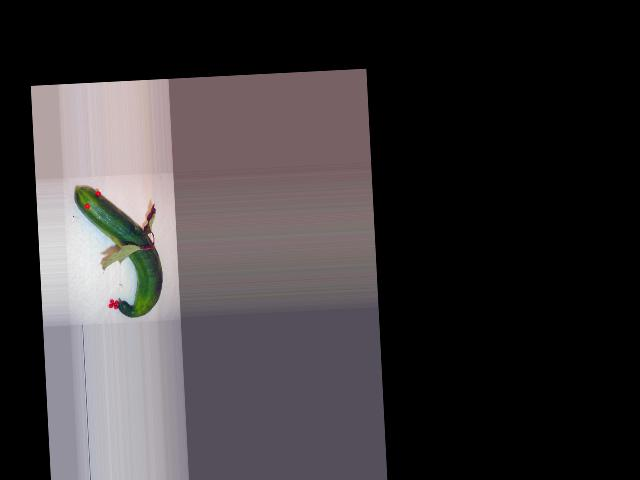cucumber: (73, 183, 164, 320)
